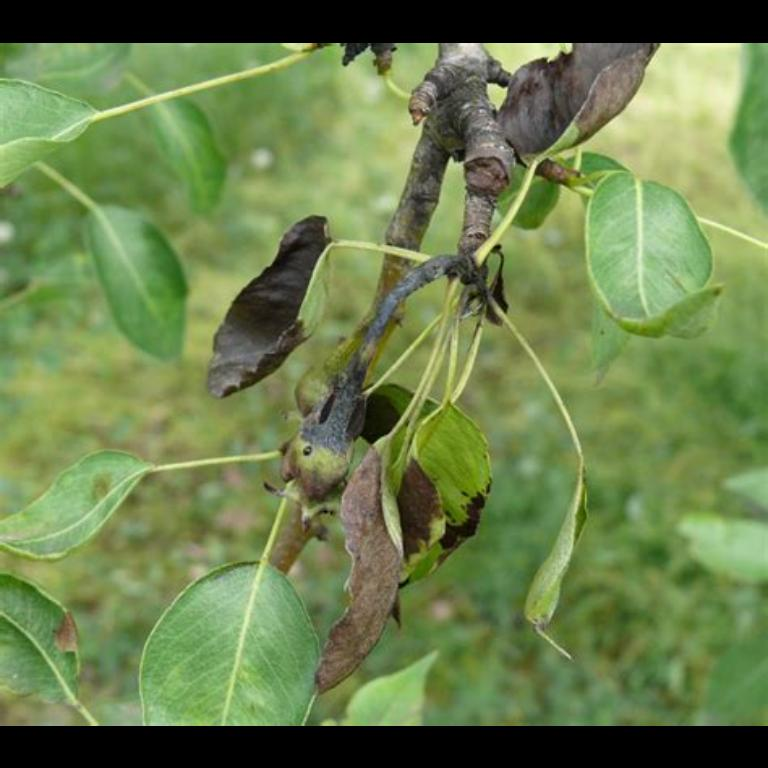blight: (338, 440, 406, 684)
